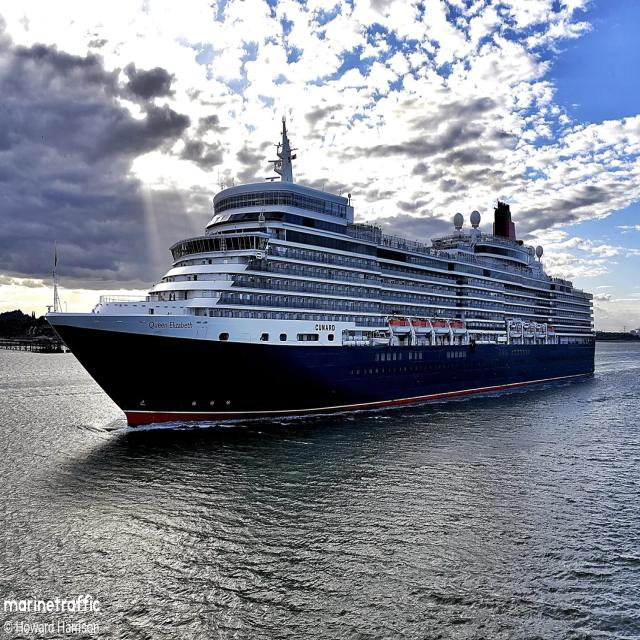Cruise: (45, 118, 596, 427)
